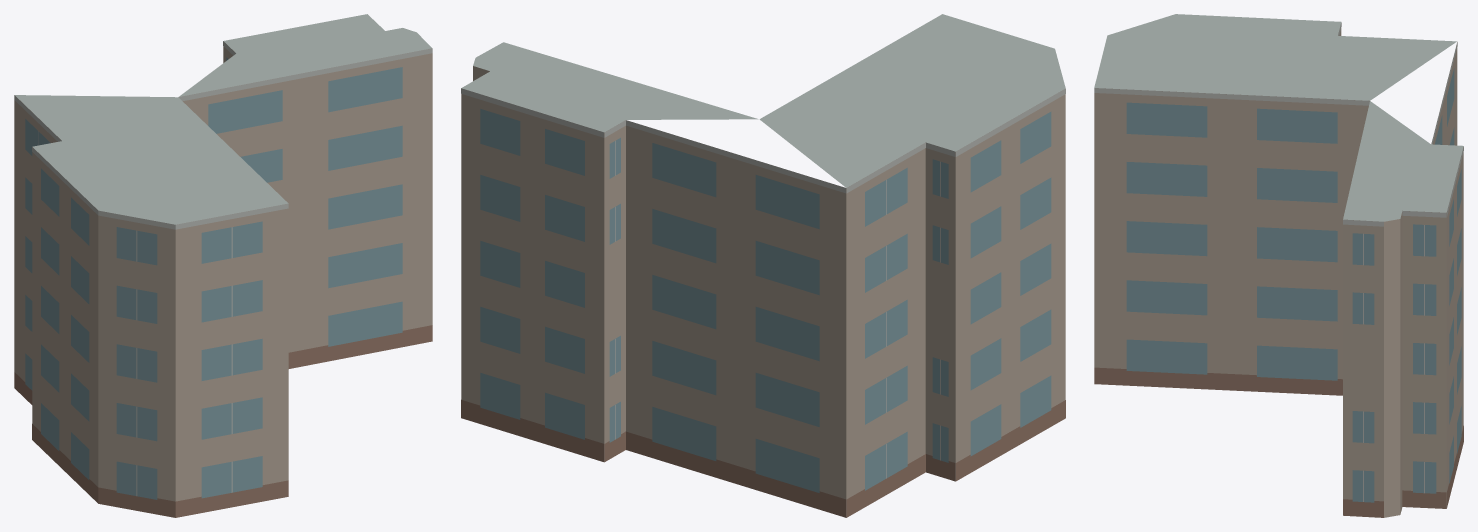
The model's file is survey-upis-32941316.glb.
3 views of the same model, side by side, from view 1: azimuth 30°, elevation 25°; view 2: azimuth 150°, elevation 25°; view 3: azimuth 270°, elevation 25° (orthographic). The views are drawn at different scales.
Visible parts, largest first — view 1: survey-upis-32941316.tmp; view 2: survey-upis-32941316.tmp; view 3: survey-upis-32941316.tmp.
Part boxes in pixels (x1,y1,x2,y2): survey-upis-32941316.tmp: [14, 14, 432, 517]; survey-upis-32941316.tmp: [461, 14, 1065, 517]; survey-upis-32941316.tmp: [1094, 14, 1463, 517].
Size of the model in its own units: 21.75 by 14.45 by 16.35.
